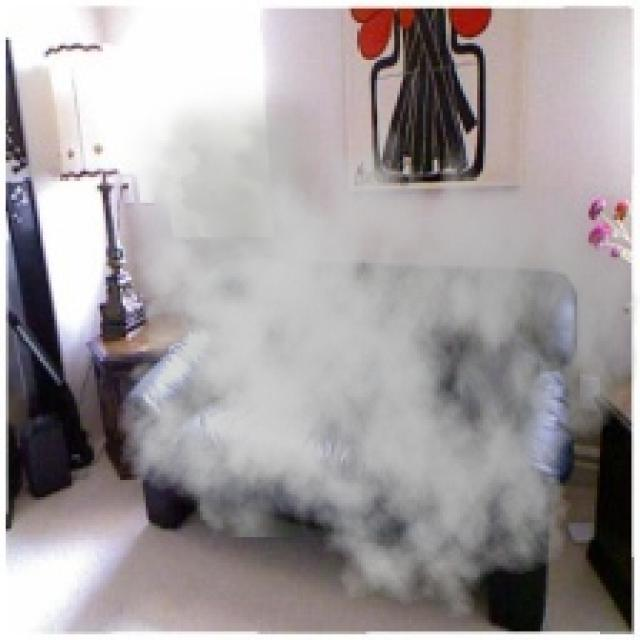smoke: (100, 77, 637, 623)
